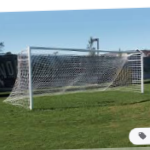goals: (4, 44, 147, 113)
